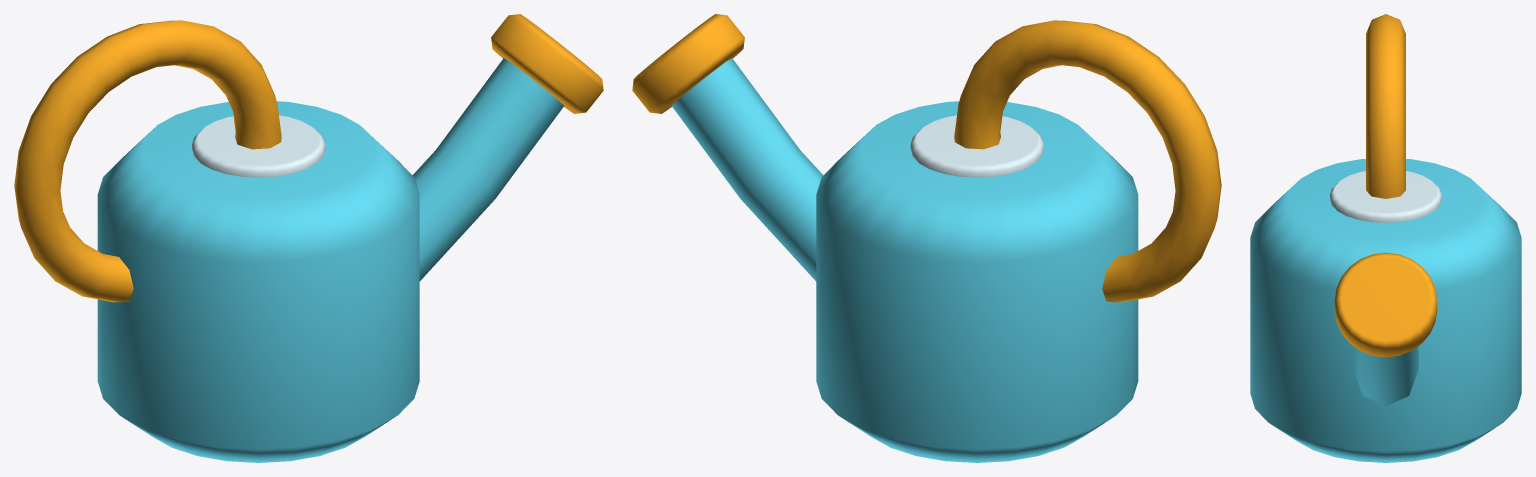
Rendered from wateringcan.glb.
3 renders of one model, left to right at view 1: azimuth 30°, elevation 25°; view 2: azimuth 150°, elevation 25°; view 3: azimuth 270°, elevation 25°, orthographic. The views are drawn at different scales.
Visible parts, largest first — view 1: wateringcan; view 2: wateringcan; view 3: wateringcan.
Part boxes in pixels (x1,y1,x2,y2): wateringcan: (14, 14, 603, 462); wateringcan: (632, 14, 1221, 462); wateringcan: (1250, 14, 1521, 462).
Size of the model in its own units: 1 by 0.6871 by 0.4842.
1 material, 1 textured.
